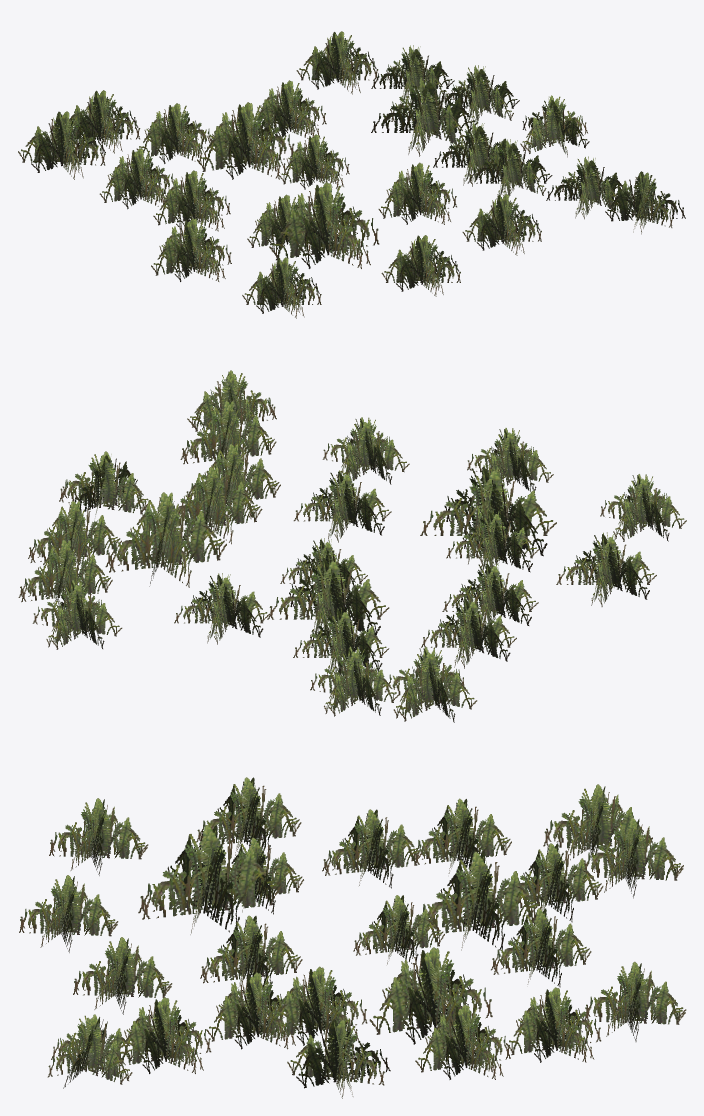
The model's file is grasstest6.obj.
3 renders of one model, top to bottom at view 1: azimuth 30°, elevation 25°; view 2: azimuth 150°, elevation 25°; view 3: azimuth 270°, elevation 25°, orthographic. The views are drawn at different scales.
Visible parts, largest first — view 1: Plane010, Plane022, Plane017, Plane026, Plane014, Plane008, Plane019, Plane013, Plane024, Plane023, Plane009, Plane005 (+12 smaller); view 2: Plane017, Plane010, Plane022, Plane026, Plane014, Plane007, Plane015, Plane008, Plane004, Plane025, Plane019, Plane023 (+12 smaller); view 3: Plane010, Plane022, Plane017, Plane004, Plane016, Plane018, Plane015, Plane007, Plane006, Plane020, Plane014, Plane013 (+12 smaller).
Part boxes in pixels (box(x1,y1,x2,y2)): Plane010: box(269, 182, 379, 268); Plane022: box(197, 102, 294, 179); Plane017: box(371, 77, 478, 156); Plane026: box(18, 111, 105, 179); Plane014: box(151, 218, 231, 281); Plane008: box(378, 162, 456, 224); Plane019: box(296, 31, 378, 94); Plane013: box(153, 170, 230, 231); Plane024: box(136, 103, 213, 163); Plane023: box(99, 148, 173, 209); Plane009: box(381, 235, 460, 296); Plane005: box(462, 194, 541, 255); Plane017: box(105, 492, 226, 587); Plane010: box(420, 464, 556, 566); Plane022: box(267, 555, 389, 639); Plane026: box(384, 647, 477, 722); Plane014: box(556, 532, 656, 606); Plane007: box(177, 467, 262, 544); Plane015: box(59, 451, 148, 516); Plane008: box(293, 470, 391, 542); Plane004: box(180, 401, 276, 476); Plane025: box(310, 646, 399, 716); Plane019: box(32, 580, 122, 649); Plane023: box(421, 597, 516, 668); Plane010: box(138, 825, 281, 934); Plane022: box(416, 851, 542, 950); Plane017: box(369, 947, 492, 1044); Plane004: box(119, 997, 211, 1073); Plane016: box(415, 1004, 510, 1079); Plane018: box(506, 987, 601, 1062); Plane015: box(287, 1019, 390, 1098); Plane007: box(269, 966, 367, 1045); Plane006: box(206, 972, 303, 1049); Plane020: box(491, 908, 591, 987); Plane014: box(196, 777, 301, 858); Plane013: box(322, 809, 422, 888).
Size of the model in its own units: 3164 by 428 by 3123.
Materials: 1 (1 with a texture image).
